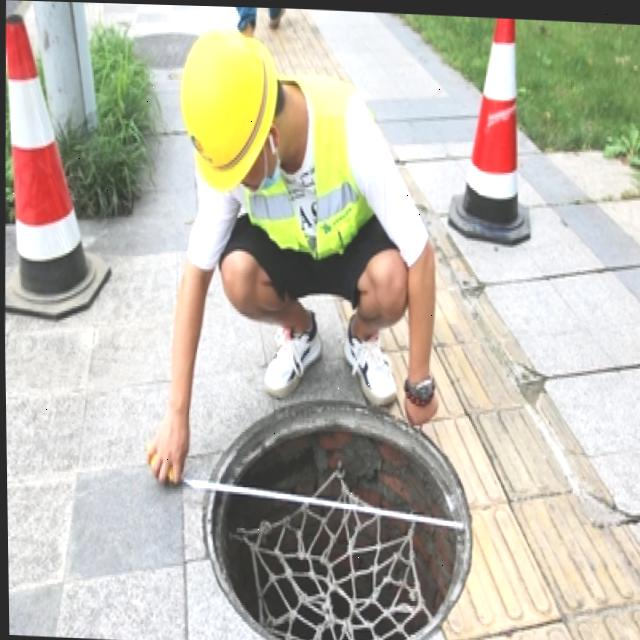manhole: (189, 384, 470, 640)
